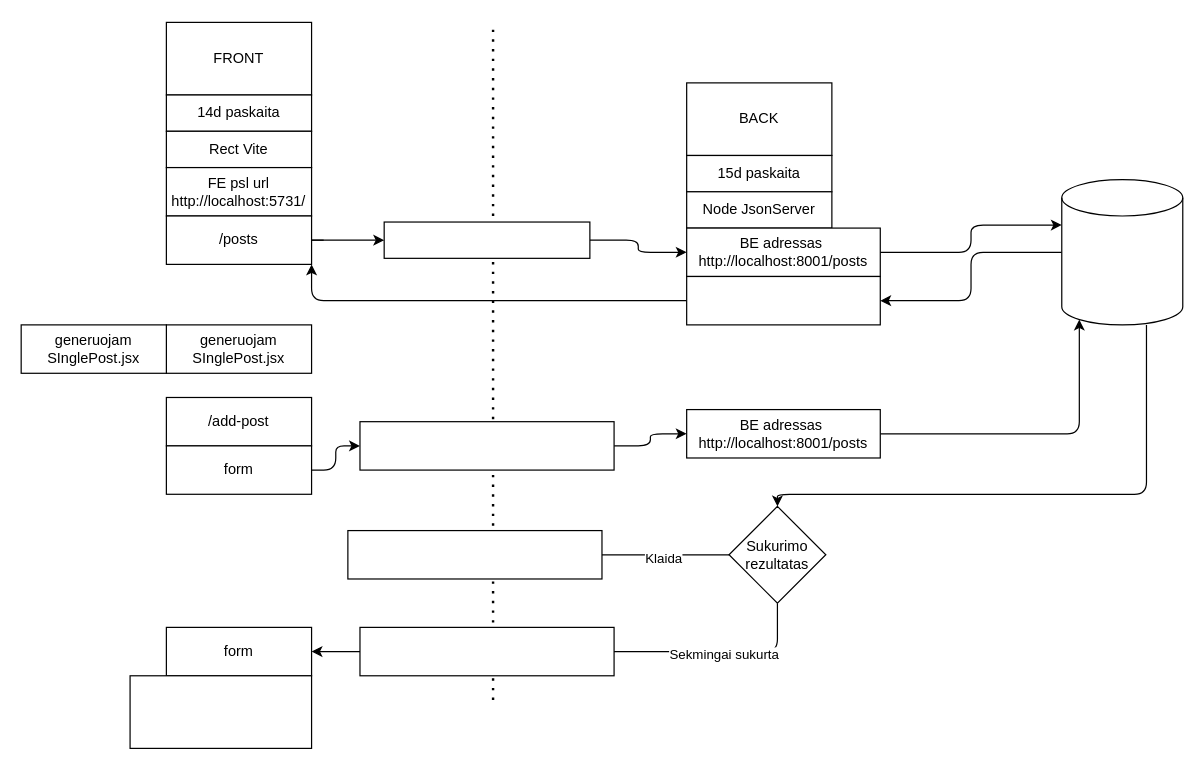
Image size: 1204x770. Some labels were removed from this diagram. Here are the shapes that lost their labels. From the top down, the box of each, then its label:
(383, 221, 590, 258): GET localhost:8001/posts
(1061, 178, 1183, 325): db.json psiaudo duomenu baze
(685, 275, 880, 325): postsArr []
(359, 420, 614, 470): POST localhost:8001/posts {new post values obj}
(347, 529, 602, 579): status 400 false {error: image not given'}
(359, 626, 614, 676): status 201 OK {'post created'}
(129, 675, 312, 748): if dataInJs.postCreated
